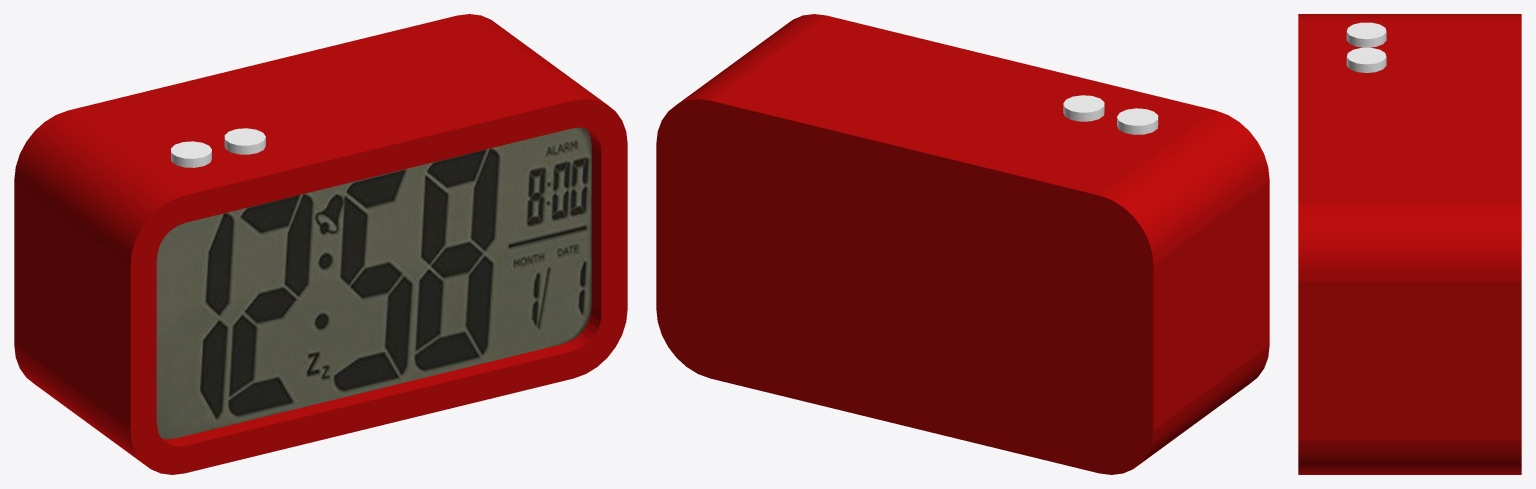
Rendered from Clock.FBX.
3 views of the same model, side by side, from view 1: azimuth 30°, elevation 25°; view 2: azimuth 150°, elevation 25°; view 3: azimuth 270°, elevation 25° (orthographic). The views are drawn at different scales.
Parts seen in each view (by area): view 1: Clock; view 2: Clock; view 3: Clock.
Part boxes in pixels (left/top/right/bottom): Clock: left=14, top=14, right=627, bottom=474; Clock: left=656, top=14, right=1269, bottom=474; Clock: left=1298, top=14, right=1521, bottom=474.
Bounding box in the file's own units: 18.21 × 10.05 × 7.38.
1 material, 1 textured.
